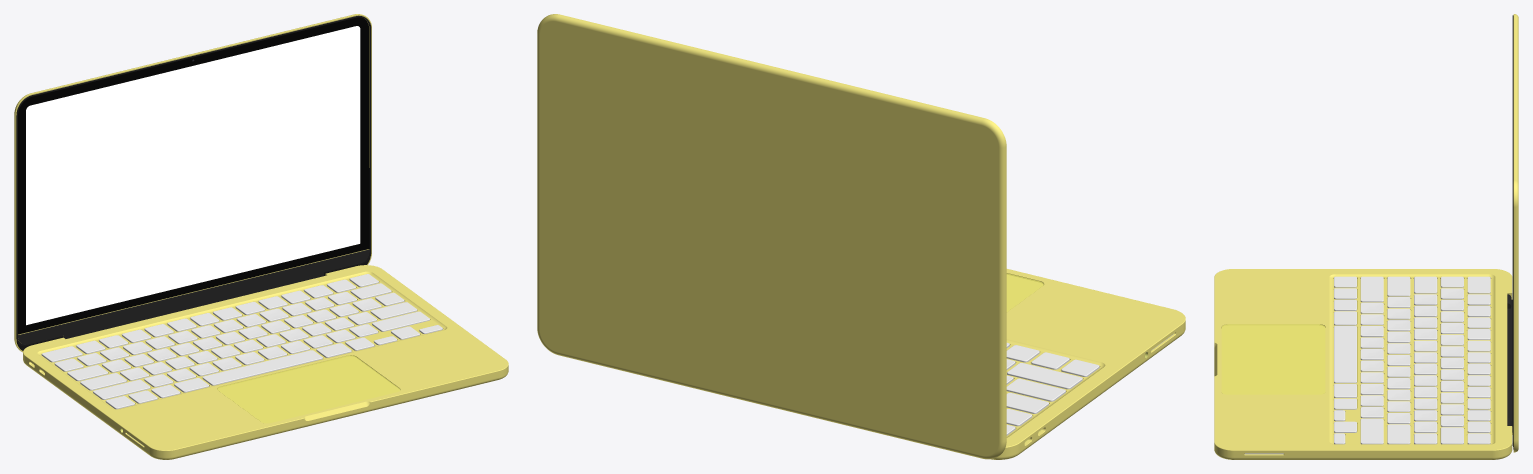
File: macbook-neo-1.glb
3 renders of one model, left to right at view 1: azimuth 30°, elevation 25°; view 2: azimuth 150°, elevation 25°; view 3: azimuth 270°, elevation 25°, orthographic. The views are drawn at different scales.
Parts seen in each view (by area): view 1: Lid_2_18, Body_0_4; view 2: Lid_2_18, Body_0_4; view 3: Body_0_4, Lid_2_18, Bottom case_1_14.
Boxes of the visible parts, x1,y1,x2,y2 form: Lid_2_18: [14, 14, 371, 352]; Body_0_4: [23, 265, 508, 459]; Lid_2_18: [537, 14, 1006, 459]; Body_0_4: [992, 269, 1185, 459]; Body_0_4: [1214, 269, 1512, 459]; Lid_2_18: [1507, 14, 1518, 452]; Bottom case_1_14: [1221, 279, 1498, 459].
Size of the model in its own units: 0.2975 by 0.2101 by 0.2108.
